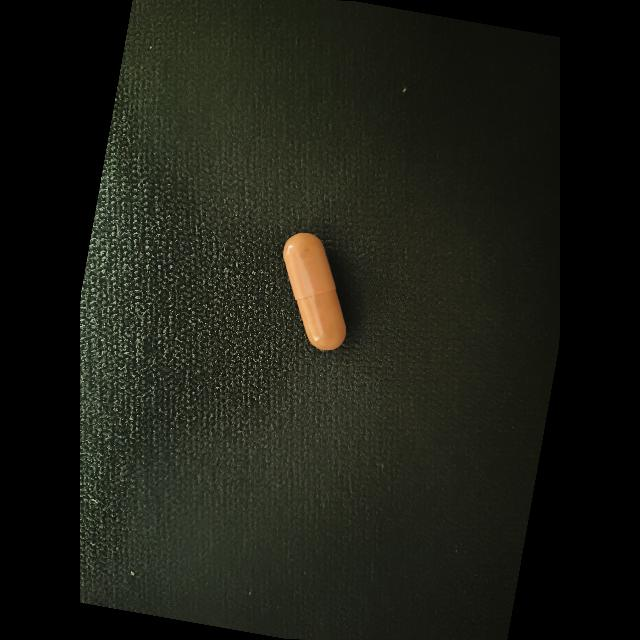Intact Capsule: (283, 232, 346, 350)
